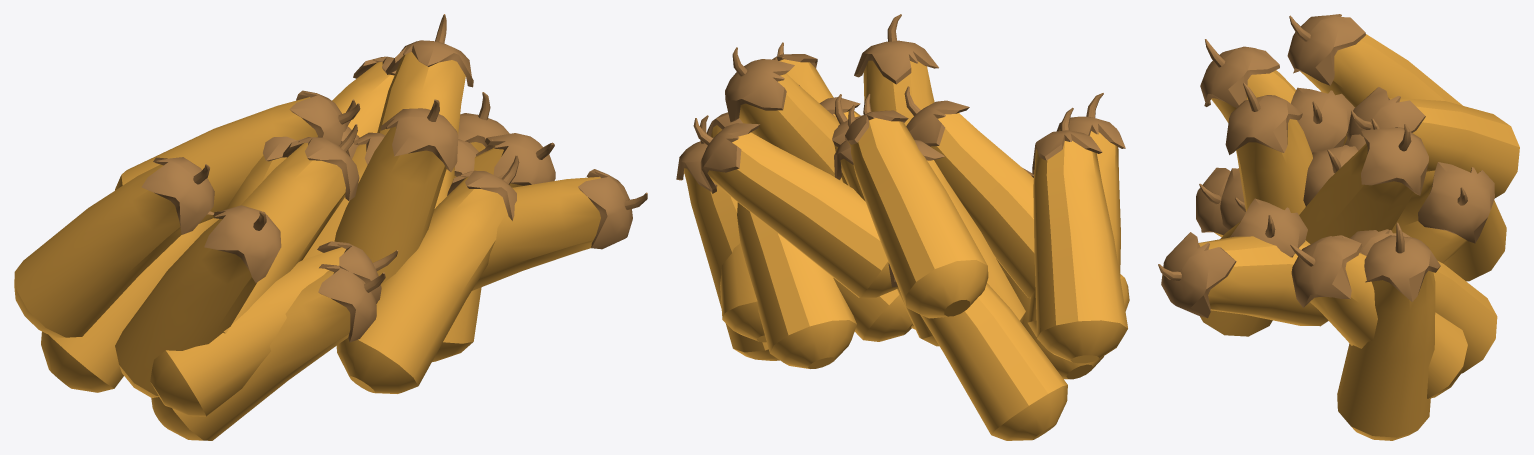
The model's file is calabazas.fbx.
3 views of the same model, side by side, from view 1: azimuth 30°, elevation 25°; view 2: azimuth 150°, elevation 25°; view 3: azimuth 270°, elevation 25° (orthographic). The views are drawn at different scales.
Visible parts, largest first — view 1: Berenjenas; view 2: Berenjenas; view 3: Berenjenas.
Part boxes in pixels (x1,y1,x2,y2): Berenjenas: [14, 14, 647, 440]; Berenjenas: [676, 14, 1129, 440]; Berenjenas: [1158, 14, 1519, 440].
Bounding box in the file's own units: 78.96 × 50.02 × 50.72.
